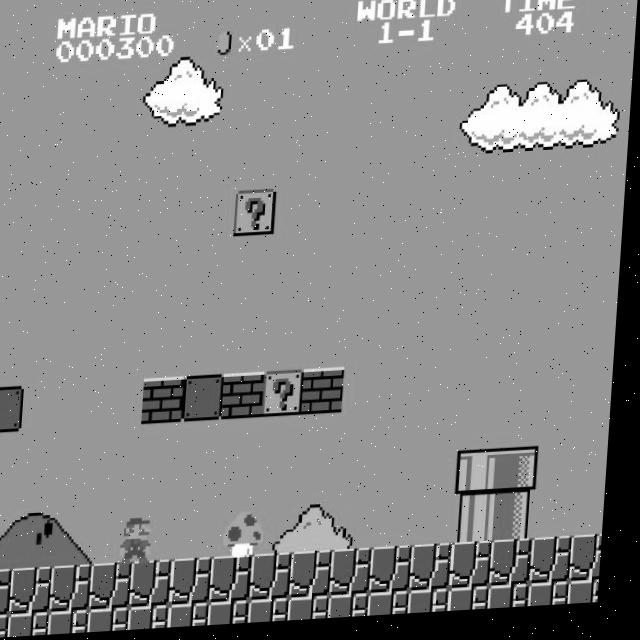1- brick_block: (147, 379, 190, 427), (227, 375, 270, 423), (307, 371, 350, 419)
11- little_mario: (120, 517, 165, 568)
12- mushroom: (227, 512, 273, 563)
13- mystery_block: (236, 192, 280, 239), (267, 373, 310, 421)
14- pipe: (460, 501, 503, 549), (500, 499, 543, 547)
15- pipe_head: (462, 455, 505, 503), (502, 453, 545, 501)
17- undestructible_block: (17, 567, 61, 615), (57, 565, 101, 613), (137, 562, 181, 610), (177, 560, 221, 608), (217, 558, 261, 606), (257, 556, 301, 604), (297, 554, 341, 602), (337, 552, 381, 600), (417, 549, 461, 597), (457, 547, 501, 595), (497, 545, 541, 593), (537, 543, 581, 591), (97, 564, 141, 611), (377, 551, 421, 598), (578, 542, 610, 589), (16, 613, 58, 638), (56, 611, 98, 636), (96, 609, 138, 634), (136, 607, 178, 632), (176, 605, 218, 630), (216, 603, 258, 628), (256, 602, 298, 627), (296, 600, 338, 625), (336, 598, 378, 623), (376, 596, 418, 621), (416, 594, 458, 619), (456, 592, 498, 617), (496, 590, 538, 615), (0, 569, 21, 617), (536, 589, 578, 613), (576, 587, 608, 612), (0, 615, 18, 640)
3- empty_block: (187, 377, 230, 425), (0, 386, 30, 434)
